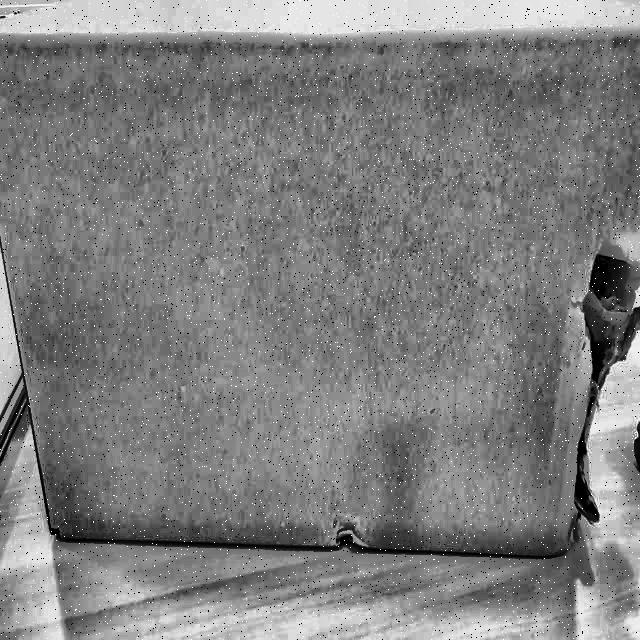box: (0, 0, 639, 568)
hole: (567, 239, 640, 541), (324, 520, 369, 557)
